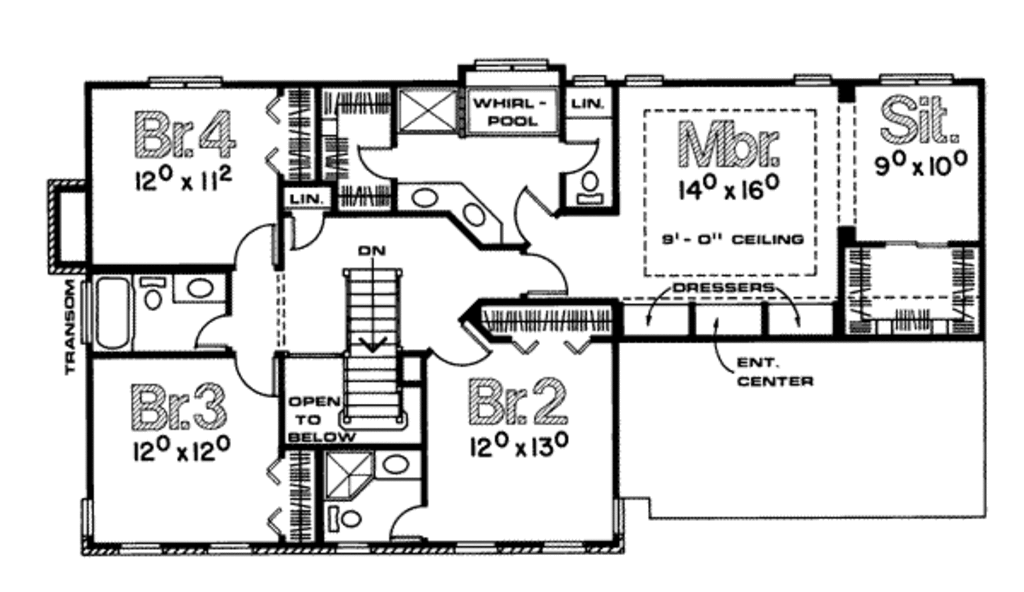door: (426, 323, 496, 373), (514, 247, 575, 298), (512, 183, 557, 247), (230, 222, 276, 271), (190, 307, 240, 352), (228, 354, 275, 401), (382, 502, 431, 544), (556, 132, 603, 174), (289, 210, 331, 255), (355, 143, 397, 184)
large_sink: (323, 498, 365, 537), (576, 171, 614, 212), (139, 276, 173, 314)
small_sink: (395, 178, 502, 246), (374, 443, 423, 484), (173, 271, 226, 307)
stairs: (342, 241, 409, 435)
tub: (89, 273, 139, 354)
window: (142, 72, 227, 96), (875, 71, 964, 93), (473, 57, 558, 74), (534, 536, 590, 560), (115, 538, 167, 559), (450, 540, 503, 560), (76, 496, 98, 541), (200, 540, 256, 557), (790, 71, 837, 90), (570, 71, 611, 92), (330, 537, 373, 557), (620, 73, 667, 89)
